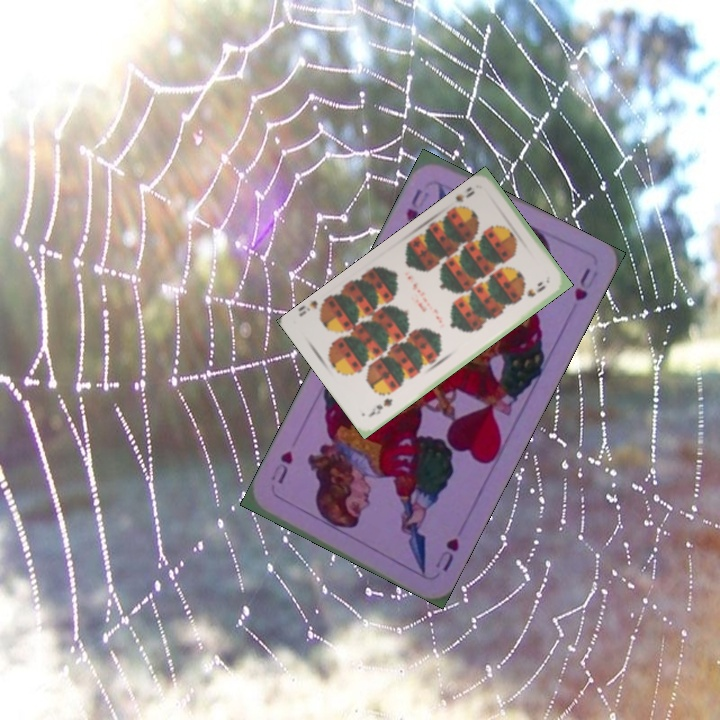HU: (431, 534, 462, 574), (401, 185, 432, 224)
S9: (447, 183, 477, 212), (365, 394, 395, 419)
